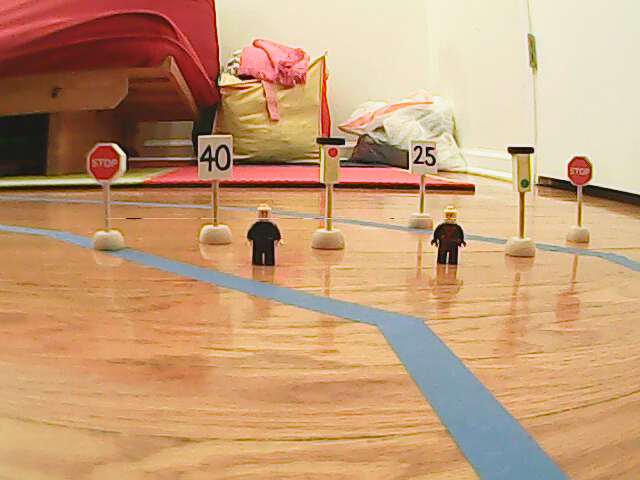Green Traffic Light: (507, 144, 536, 194)
Person: (244, 203, 285, 267), (432, 204, 467, 268)
Red Traffic Light: (315, 138, 345, 186)
Speed Limit 25: (410, 139, 436, 176)
Speed Limit 40: (196, 134, 233, 186)
Stop Sign: (86, 141, 126, 188), (565, 155, 596, 187)
